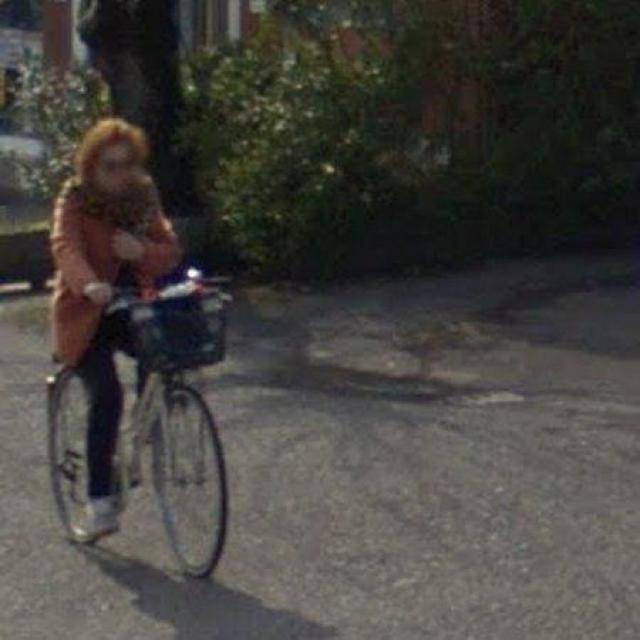bicycle: (19, 245, 256, 594)
